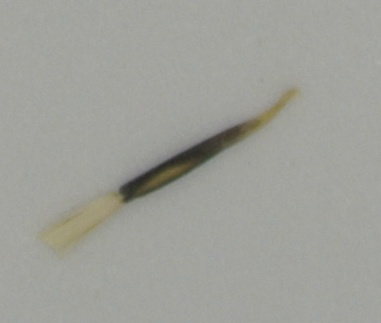เมล็ดงอกแตก: (35, 88, 301, 262)
